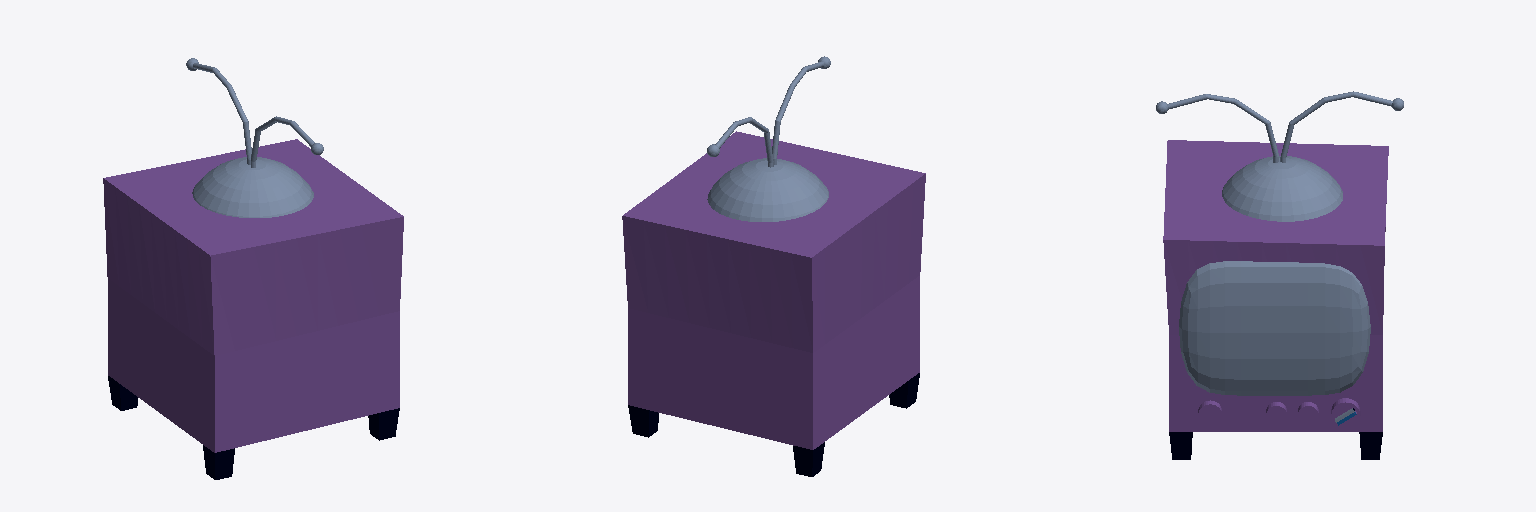
3 renders of one model, left to right at view 1: azimuth 30°, elevation 25°; view 2: azimuth 150°, elevation 25°; view 3: azimuth 270°, elevation 25°, orthographic.
Visible parts, largest first — view 1: TVRockoText:Mesh; view 2: TVRockoText:Mesh; view 3: TVRockoText:Mesh.
Boxes of the visible parts, x1=… form: TVRockoText:Mesh: x1=103, y1=58, x2=403, y2=479; TVRockoText:Mesh: x1=622, y1=56, x2=925, y2=476; TVRockoText:Mesh: x1=1156, y1=91, x2=1403, y2=459.
Bounding box in the file's own units: 2.2 × 3.34 × 2.32.
1 materials, 1 textured.